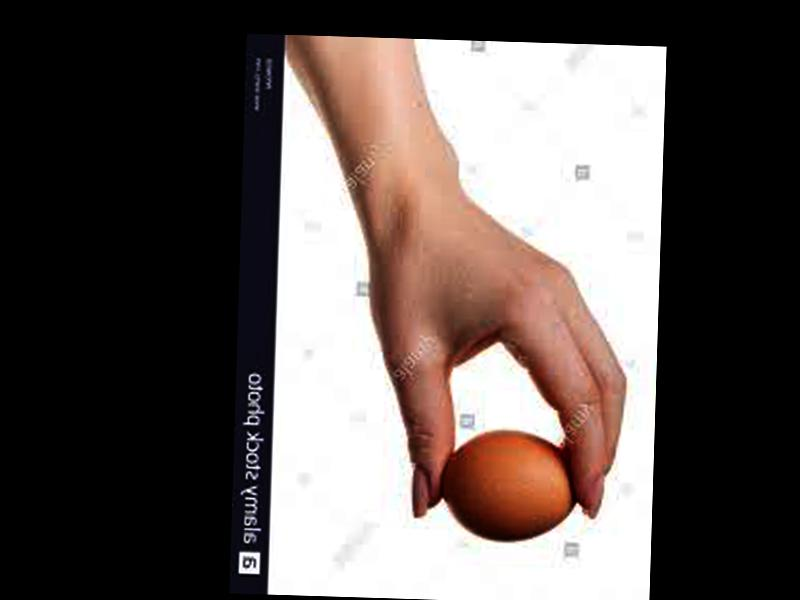Eggs: (440, 423, 577, 544)
